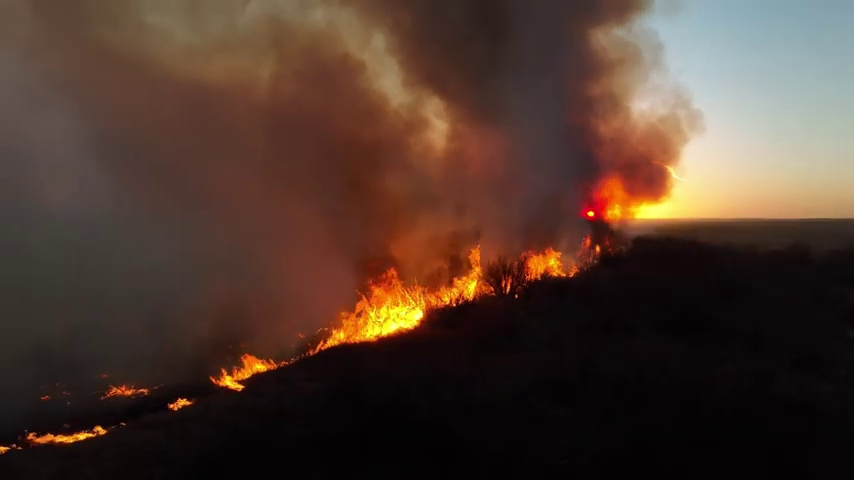forest_fire: (297, 247, 485, 358), (210, 354, 295, 391), (25, 426, 113, 444), (522, 249, 565, 279), (103, 385, 150, 398), (167, 397, 193, 410)
